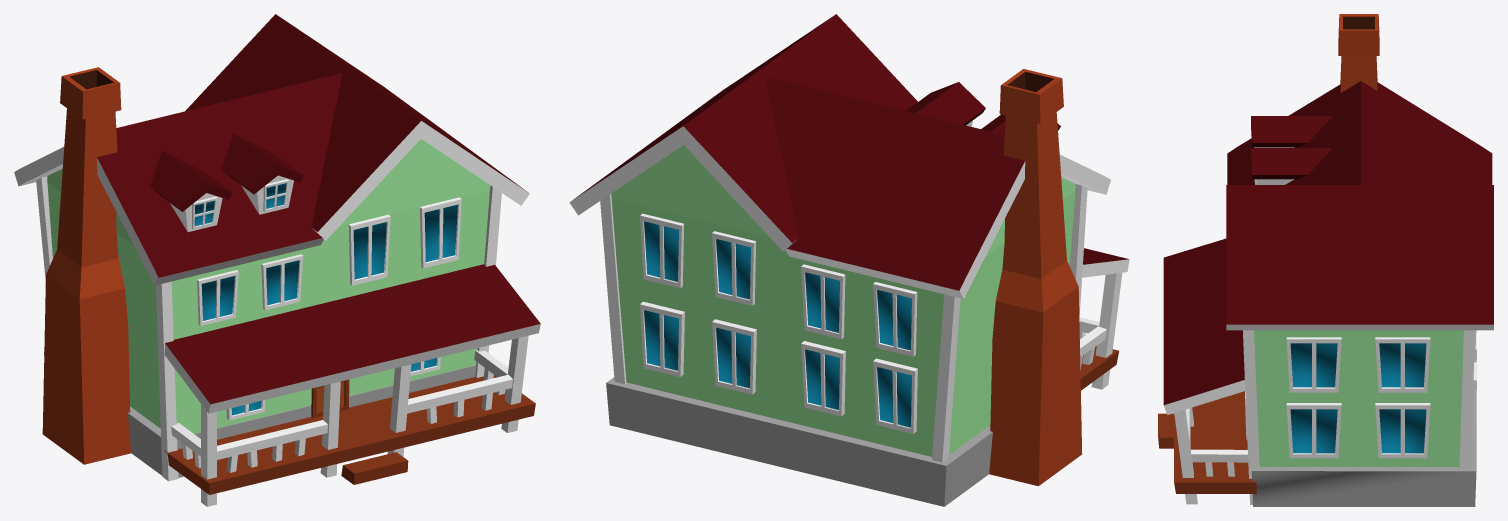
Rendered from Big_House_1.fbx.
The picture shows the model from 3 angles, left to right: view 1: azimuth 30°, elevation 25°; view 2: azimuth 150°, elevation 25°; view 3: azimuth 270°, elevation 25°; orthographic projection. The views are drawn at different scales.
Visible parts, largest first — view 1: Big_House_Roof, Big_House_Poarch_Roof, Big_House_Walls, Big_House_Chimney, Big_House_Columns, Big_House_Poarch, Barn_Big_Window_Front, Big_House_High_Windows, Big_House_Base, Big_House_Door; view 2: Big_House_Roof, Big_House_Walls, Big_House_Chimney, Barn_Big_Window_Back, Big_House_Base, Big_House_Columns, Big_House_High_Windows, Big_House_Poarch_Roof, Big_House_Poarch; view 3: Big_House_Roof, Big_House_Walls, Barn_Big_Window_Side, Big_House_Poarch_Roof, Big_House_Base, Big_House_Poarch, Big_House_Columns, Big_House_High_Windows, Big_House_Chimney, Barn_Big_Window_Back.
Part boxes in pixels (<box>): Big_House_Roof: <box>14,14,529,285</box>; Big_House_Poarch_Roof: <box>164,264,540,413</box>; Big_House_Walls: <box>47,139,490,433</box>; Big_House_Chimney: <box>42,67,130,464</box>; Big_House_Columns: <box>36,176,528,506</box>; Big_House_Poarch: <box>164,375,535,494</box>; Barn_Big_Window_Front: <box>197,197,461,420</box>; Big_House_High_Windows: <box>150,133,303,231</box>; Big_House_Base: <box>44,352,475,477</box>; Big_House_Door: <box>311,379,349,417</box>; Big_House_Roof: <box>569,14,1110,298</box>; Big_House_Walls: <box>611,145,1075,456</box>; Big_House_Chimney: <box>989,69,1081,486</box>; Barn_Big_Window_Back: <box>640,213,917,433</box>; Big_House_Base: <box>606,377,992,506</box>; Big_House_Columns: <box>600,184,1122,462</box>; Big_House_High_Windows: <box>906,82,1060,134</box>; Big_House_Poarch_Roof: <box>1082,248,1129,277</box>; Big_House_Poarch: <box>1080,346,1118,390</box>; Big_House_Roof: <box>1226,81,1493,330</box>; Big_House_Walls: <box>1254,330,1463,466</box>; Barn_Big_Window_Side: <box>1286,337,1430,458</box>; Big_House_Poarch_Roof: <box>1163,238,1245,414</box>; Big_House_Base: <box>1251,401,1476,506</box>; Big_House_Poarch: <box>1158,391,1256,493</box>; Big_House_Columns: <box>1174,330,1474,504</box>; Big_House_High_Windows: <box>1251,116,1332,184</box>; Big_House_Chimney: <box>1338,14,1379,92</box>; Barn_Big_Window_Back: <box>1471,330,1476,435</box>.
Bounding box in the file's own units: 453 × 398 × 364.
